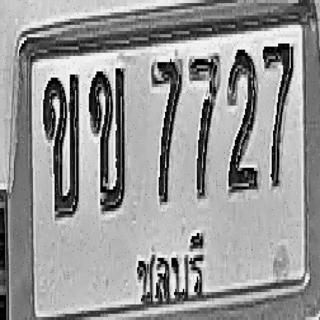A02: (42, 72, 80, 218), (89, 65, 126, 211)
N02: (227, 46, 258, 192)
N07: (150, 58, 182, 204), (188, 53, 219, 199), (263, 42, 293, 188)
P13: (132, 224, 209, 310)
